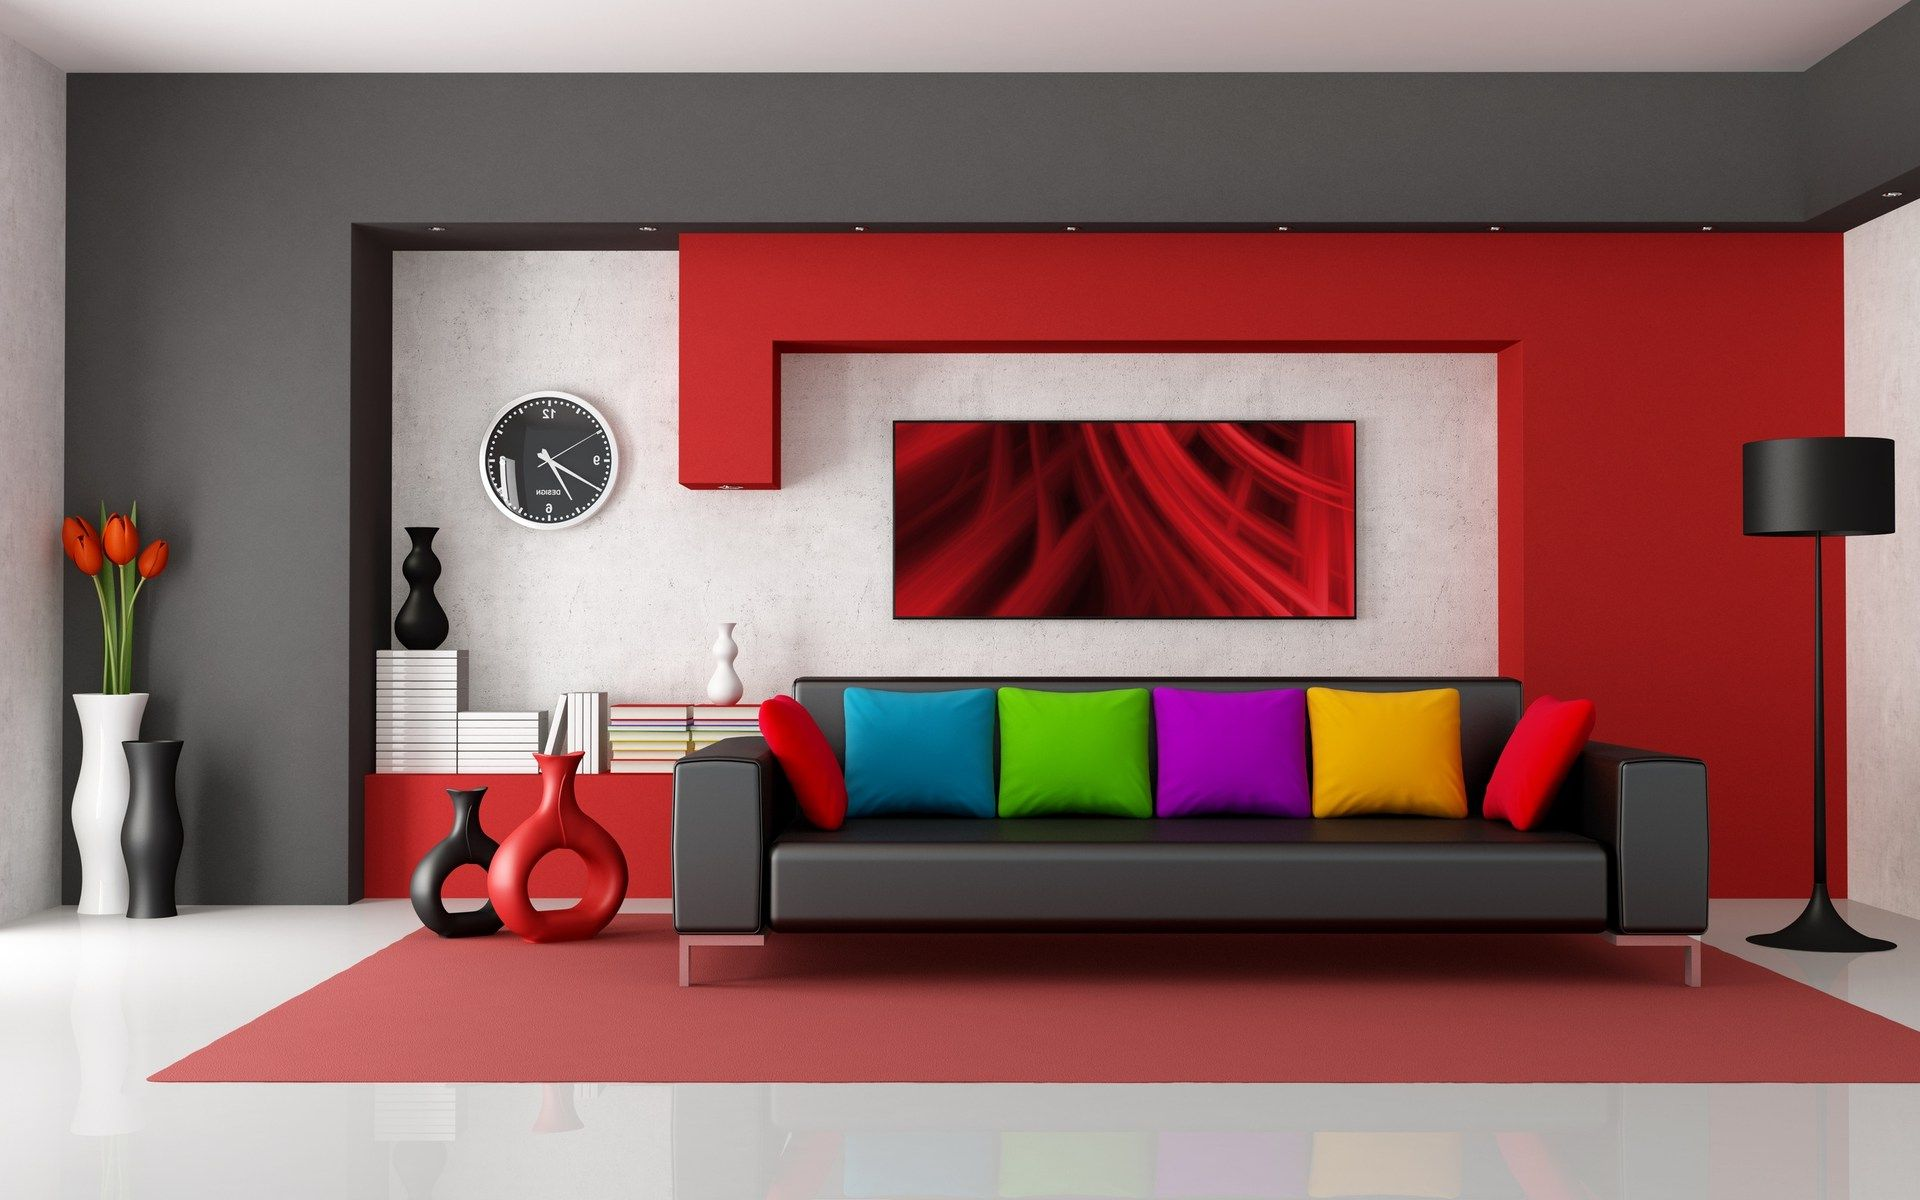biru: (842, 688, 998, 809)
hijau: (1005, 688, 1145, 800)
hitam: (675, 821, 1711, 930), (480, 390, 619, 534), (1740, 434, 1897, 542), (119, 733, 188, 917), (419, 794, 489, 935), (395, 524, 448, 650)
merah: (496, 753, 625, 940), (1483, 705, 1588, 823), (763, 694, 839, 829)
orange: (1149, 697, 1288, 810)
putih: (69, 691, 126, 917), (706, 622, 745, 704)
ungu: (1317, 688, 1457, 800)
